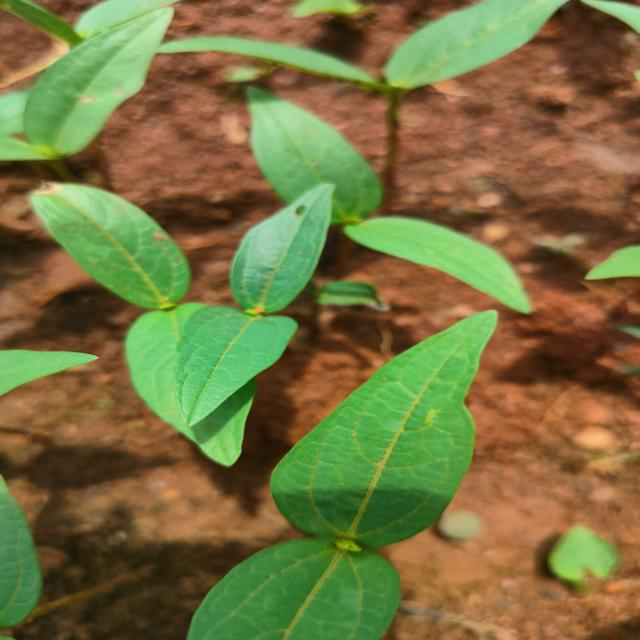Black gram_healthy: (265, 300, 528, 554), (18, 170, 202, 311), (179, 536, 406, 640), (29, 5, 168, 155), (239, 87, 394, 219), (347, 208, 533, 314), (159, 300, 295, 425), (392, 0, 563, 87), (225, 175, 326, 321)
